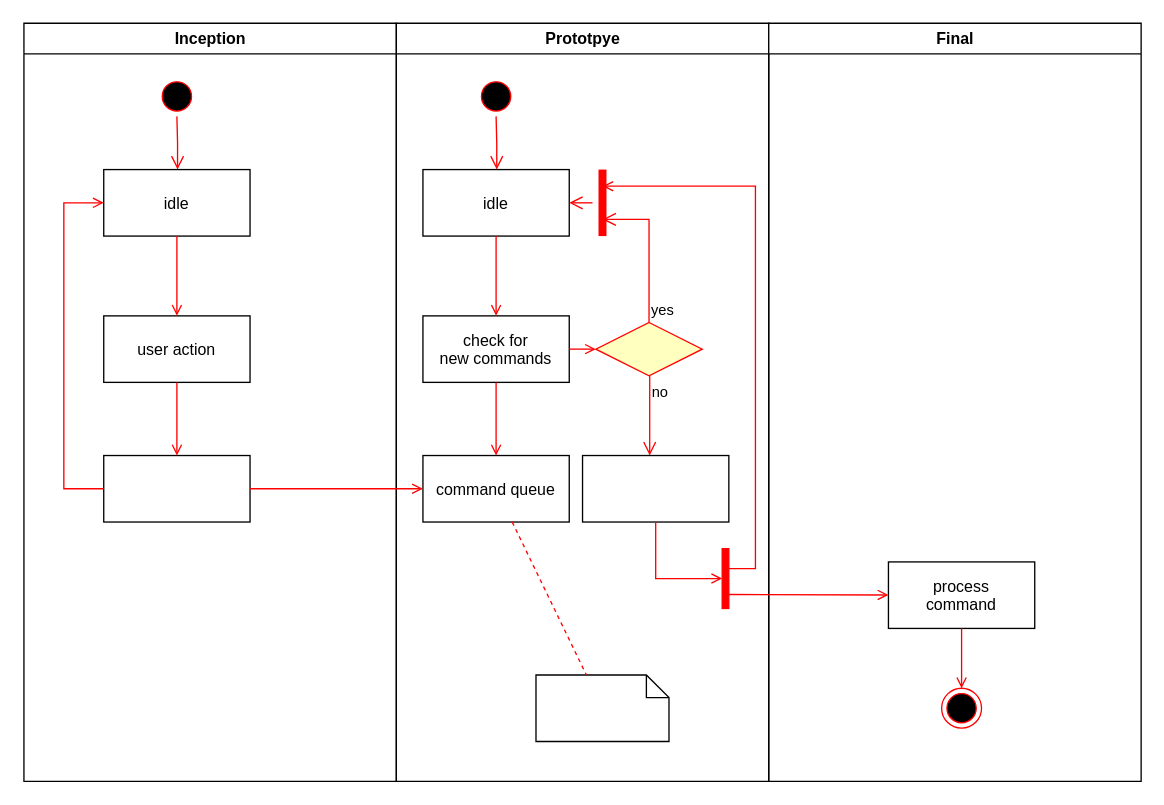
The diagram is 1164 pixels wide and 805 high, and some of its shapes have lost their labels. The centre of each missing label's shape, as x and y in pixels:
"critical section" belongs at point (602, 707).
"dispatch command worker thread" belongs at point (655, 488).
"post command" belongs at point (176, 488).
"queue empty" belongs at point (648, 348).
